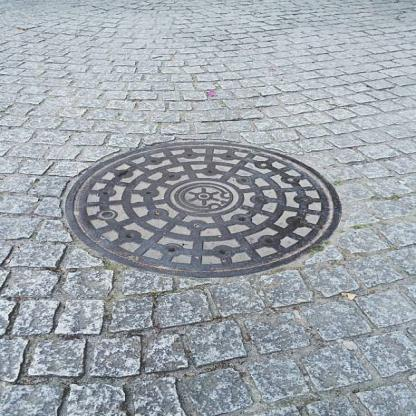manholes: (47, 124, 369, 293)
